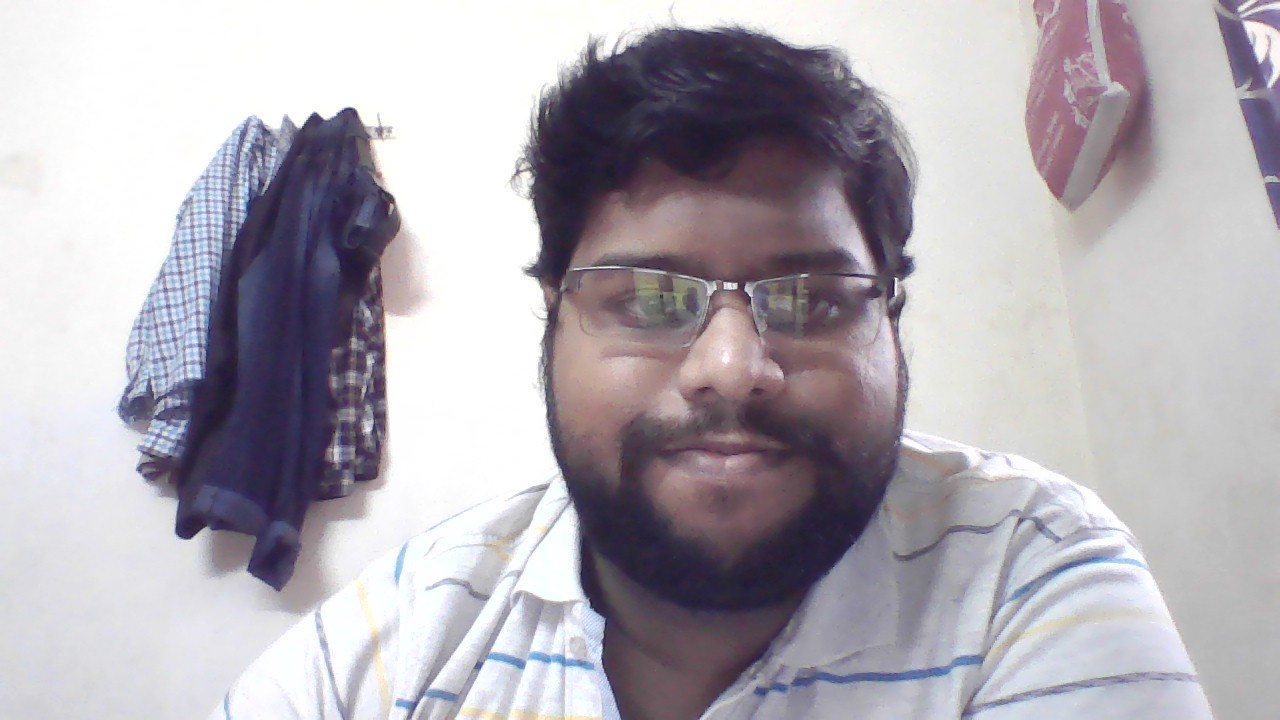NoMask: (515, 312, 929, 545)
